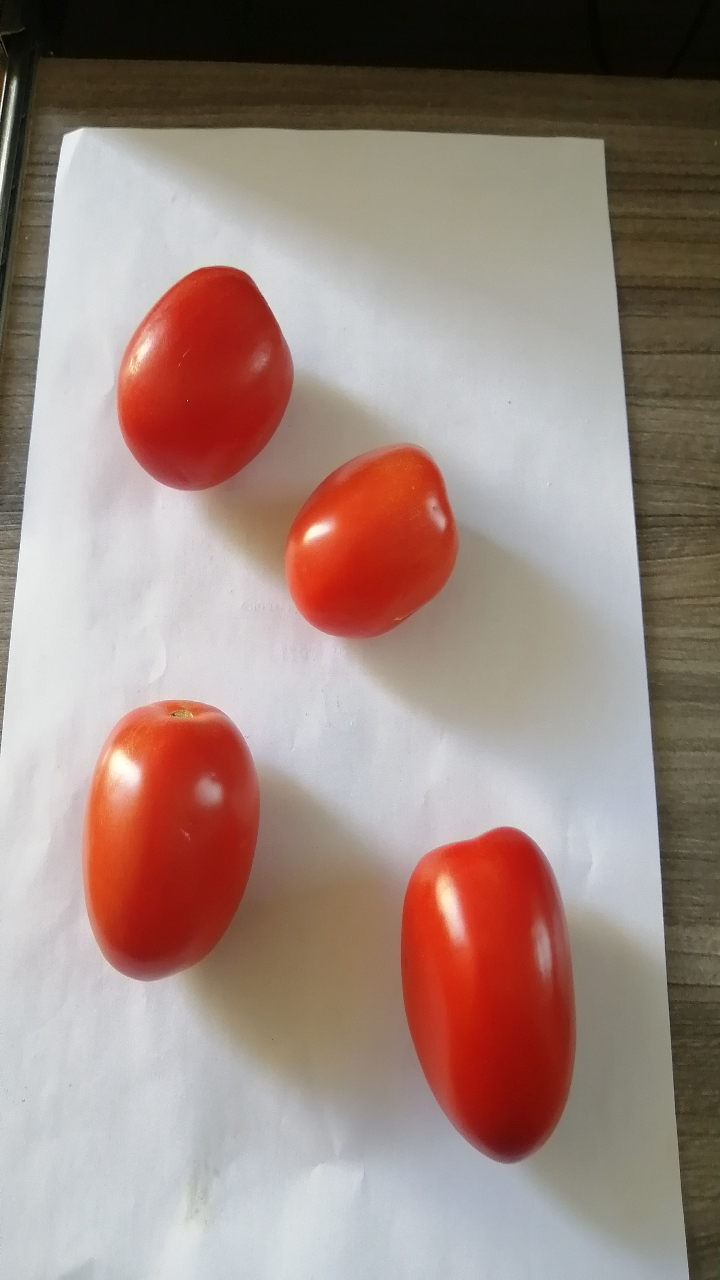tomateRojo: (380, 817, 586, 1172), (72, 685, 271, 1003), (91, 240, 323, 494), (260, 423, 469, 660)
